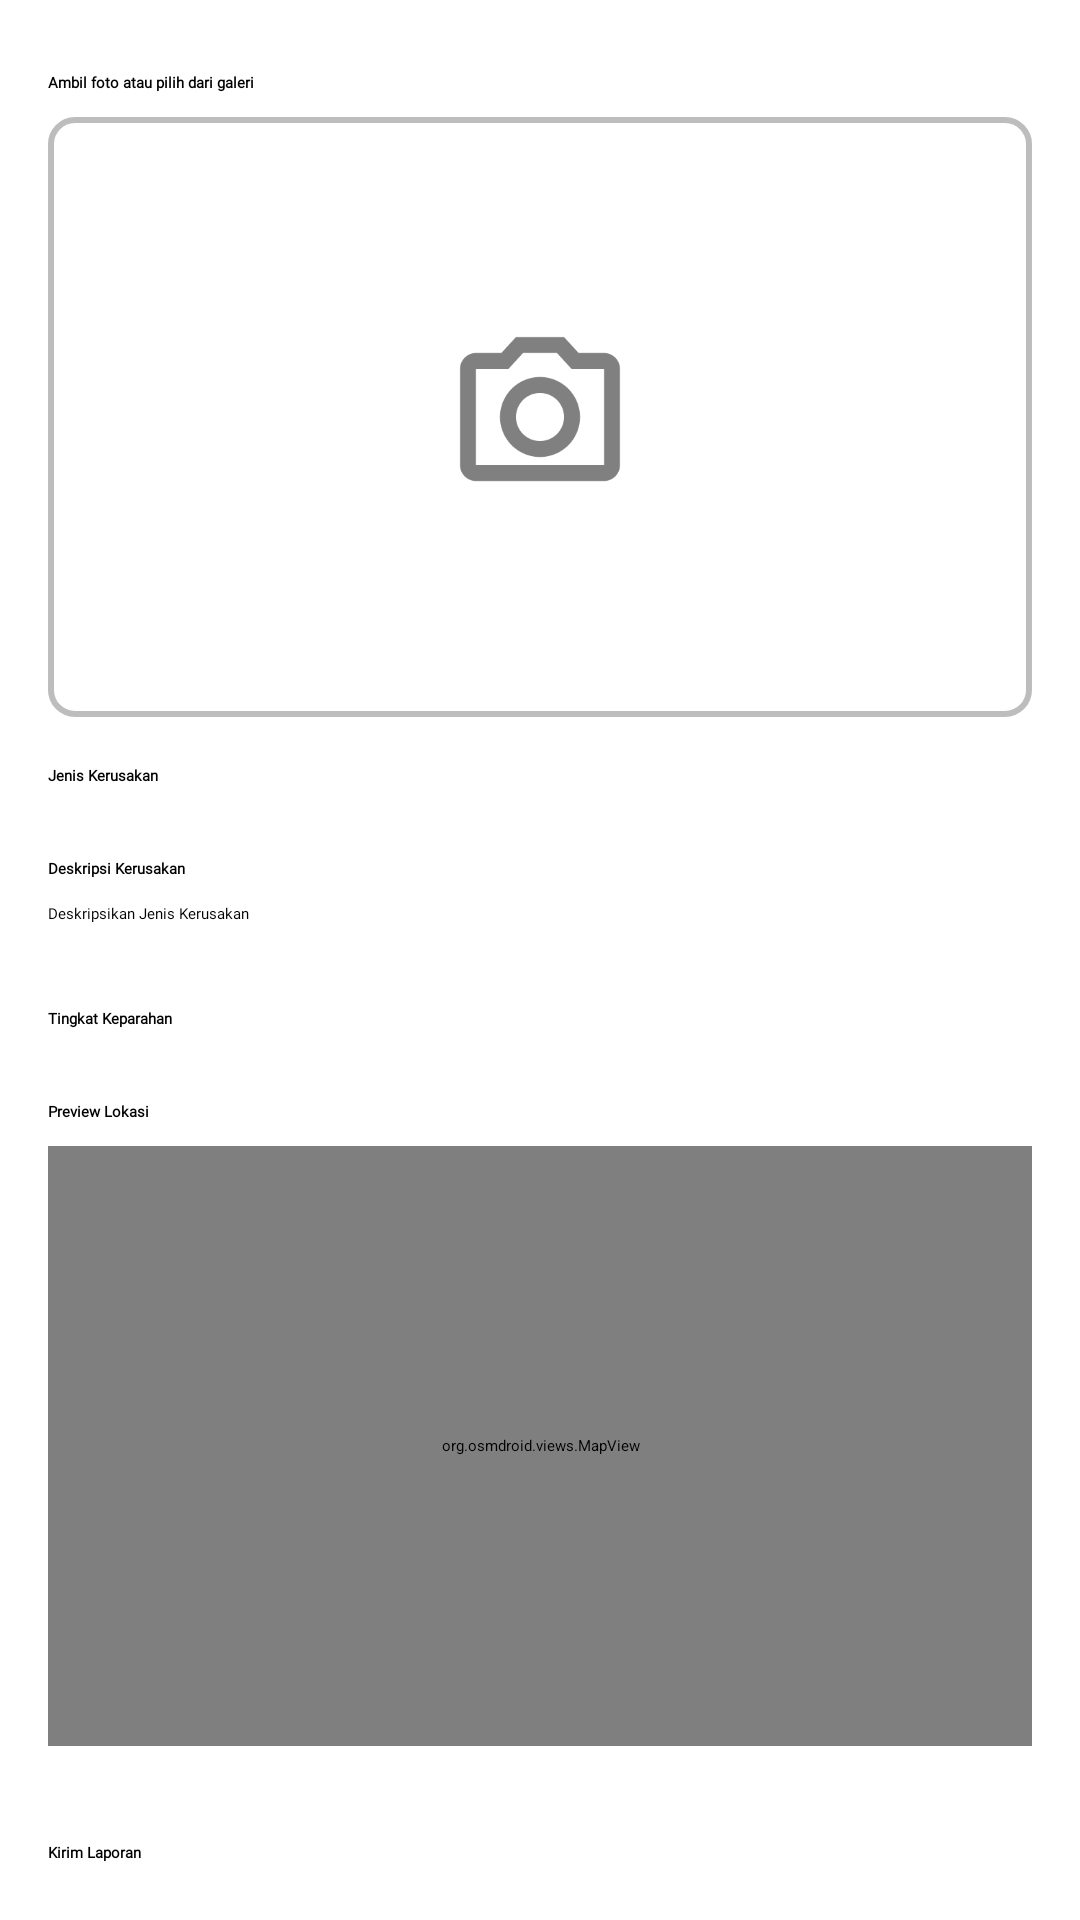

Point at icon controls on the screen. Image size 1080 x 1920, points as (x,y).
camera: (540,409)
